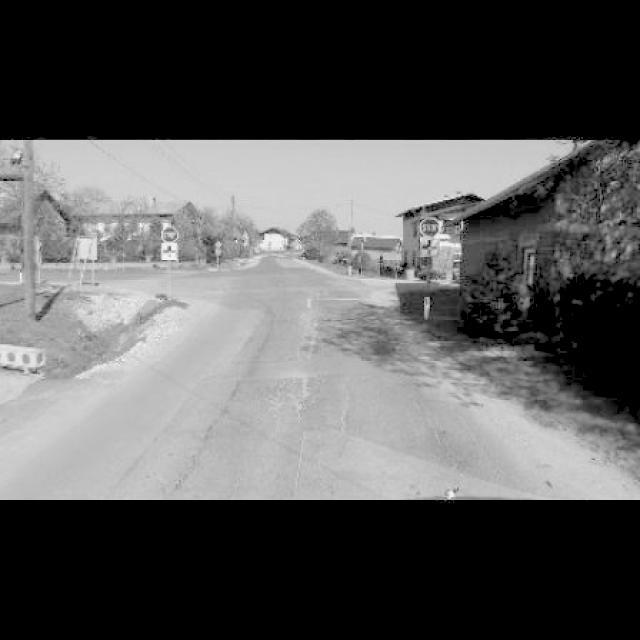stop_sign: (420, 217, 440, 237), (162, 226, 178, 241)
